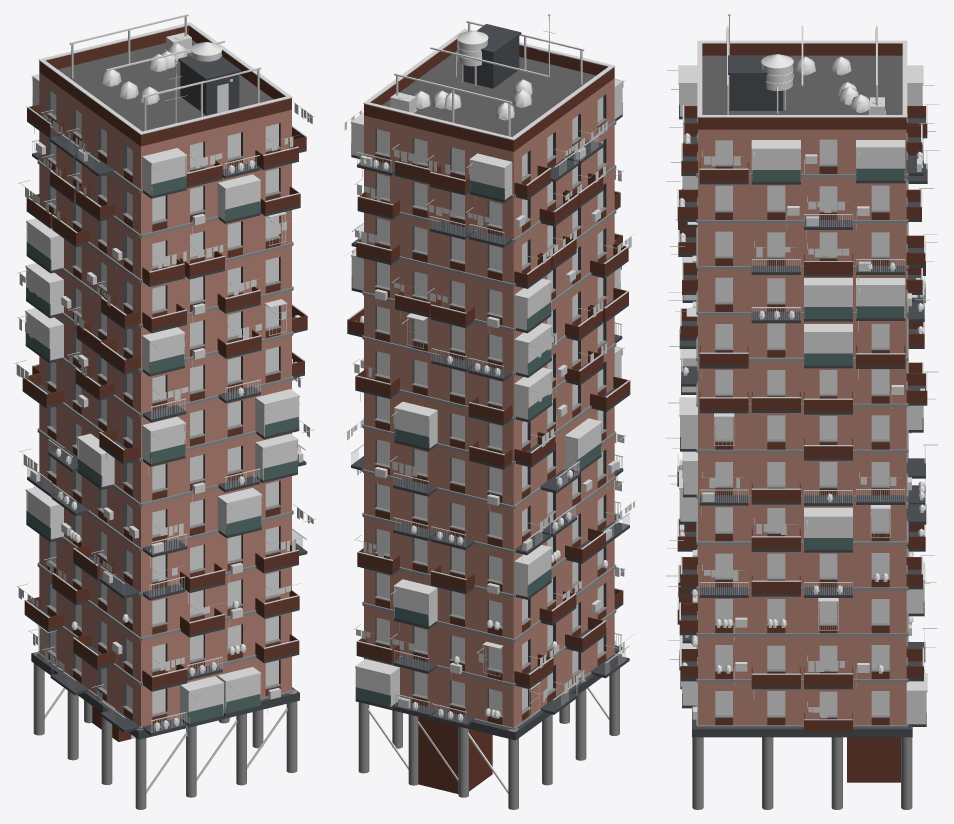
File: LM_CW_StiltTower.fbx
3 views of the same model, side by side, from view 1: azimuth 30°, elevation 25°; view 2: azimuth 150°, elevation 25°; view 3: azimuth 270°, elevation 25° (orthographic). The views are drawn at different scales.
Parts seen in each view (by area): view 1: LM_CW_StiltTower_LOD0; view 2: LM_CW_StiltTower_LOD0; view 3: LM_CW_StiltTower_LOD0.
Part boxes in pixels (x1=…): LM_CW_StiltTower_LOD0: x1=14, y1=14, x2=315, y2=809; LM_CW_StiltTower_LOD0: x1=344, y1=14, x2=636, y2=809; LM_CW_StiltTower_LOD0: x1=665, y1=14, x2=939, y2=809.
Size of what is drawn, in the model's own units: 16.34 by 55.01 by 18.39.
